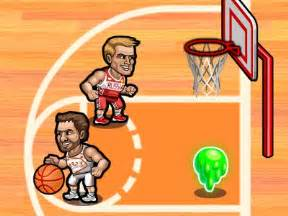basketball: (33, 164, 65, 195)
